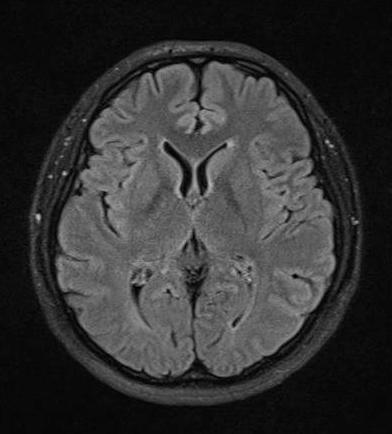Normal_Brain: (32, 1, 392, 434)
